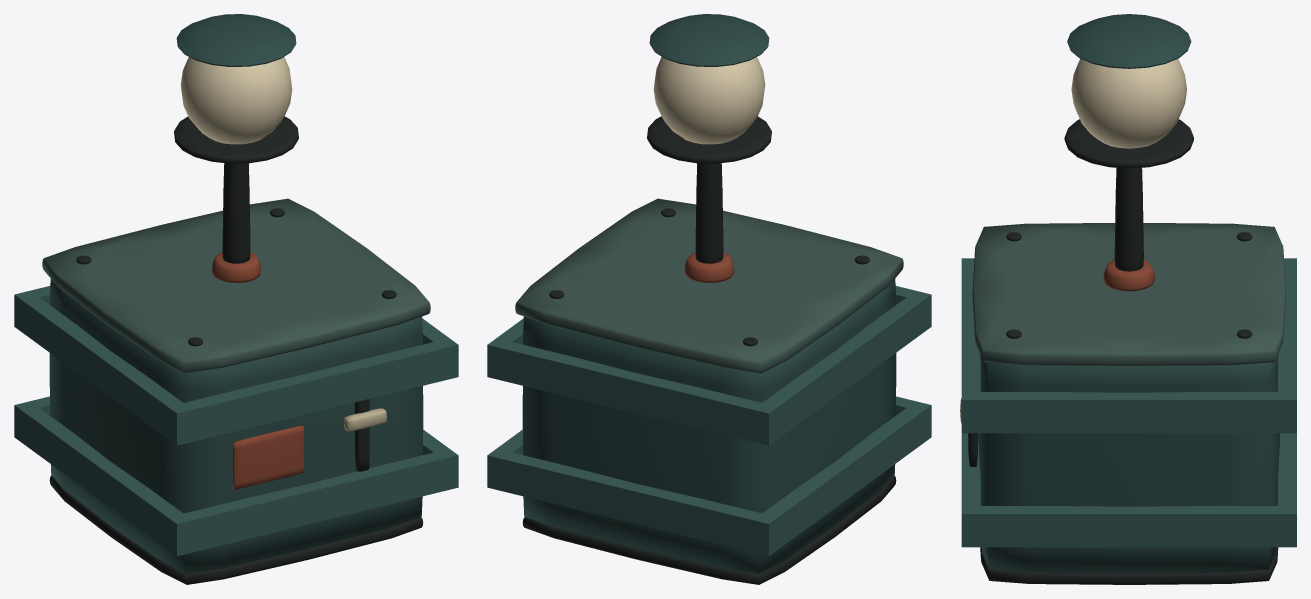
File: enemy_vault.glb
3 views of the same model, side by side, from view 1: azimuth 30°, elevation 25°; view 2: azimuth 150°, elevation 25°; view 3: azimuth 270°, elevation 25° (orthographic). The views are drawn at different scales.
Visible parts, largest first — view 1: VaultBody, VaultPlating, VaultLamp; view 2: VaultBody, VaultPlating, VaultLamp; view 3: VaultBody, VaultPlating, VaultLamp.
Boxes of the visible parts, bbox=[...] form: VaultBody: bbox=[42, 14, 430, 584]; VaultPlating: bbox=[14, 286, 458, 556]; VaultLamp: bbox=[180, 57, 292, 144]; VaultBody: bbox=[515, 14, 903, 584]; VaultPlating: bbox=[487, 286, 931, 556]; VaultLamp: bbox=[653, 57, 765, 144]; VaultBody: bbox=[960, 14, 1285, 584]; VaultPlating: bbox=[961, 258, 1296, 547]; VaultLamp: bbox=[1071, 59, 1186, 148].
Bounding box in the file's own units: 3.2 × 5.2 × 3.22.
